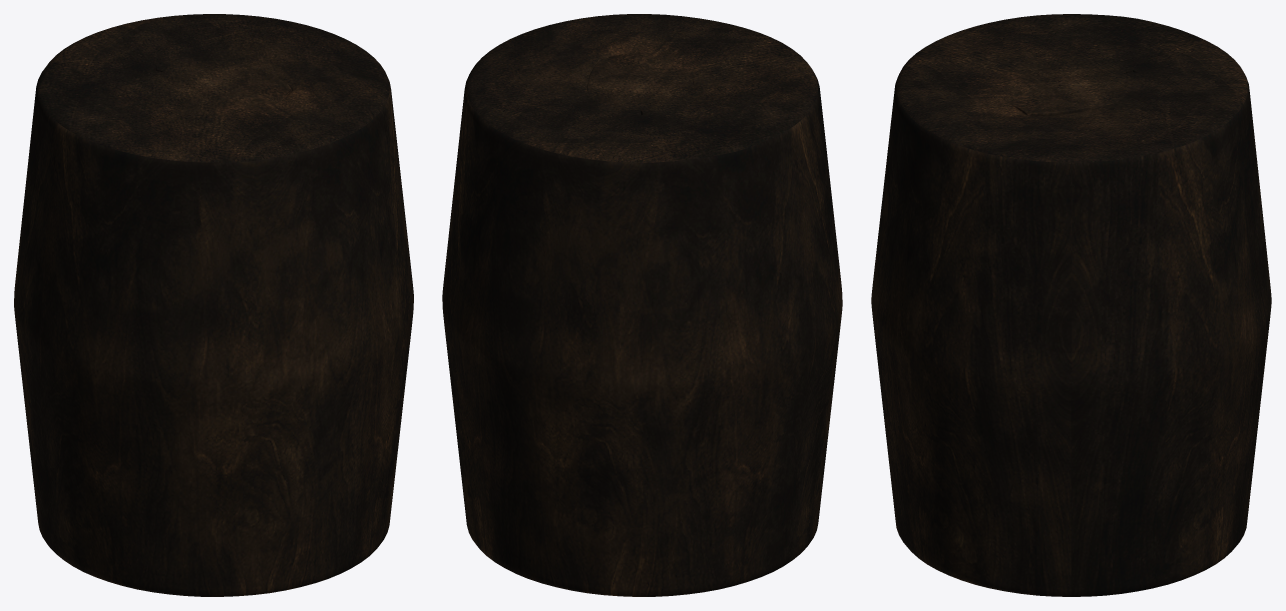
File: end_table_small.fbx
3 renders of one model, left to right at view 1: azimuth 30°, elevation 25°; view 2: azimuth 150°, elevation 25°; view 3: azimuth 270°, elevation 25°, orthographic.
Parts seen in each view (by area): view 1: HuCt29:HuCt29; view 2: HuCt29:HuCt29; view 3: HuCt29:HuCt29.
Boxes of the visible parts, left/top/right/bottom form: HuCt29:HuCt29: left=14, top=14, right=413, bottom=596; HuCt29:HuCt29: left=442, top=14, right=842, bottom=596; HuCt29:HuCt29: left=871, top=14, right=1271, bottom=596.
Size of the model in its own units: 456 by 555 by 456.
Materials: 1 (1 with a texture image).
